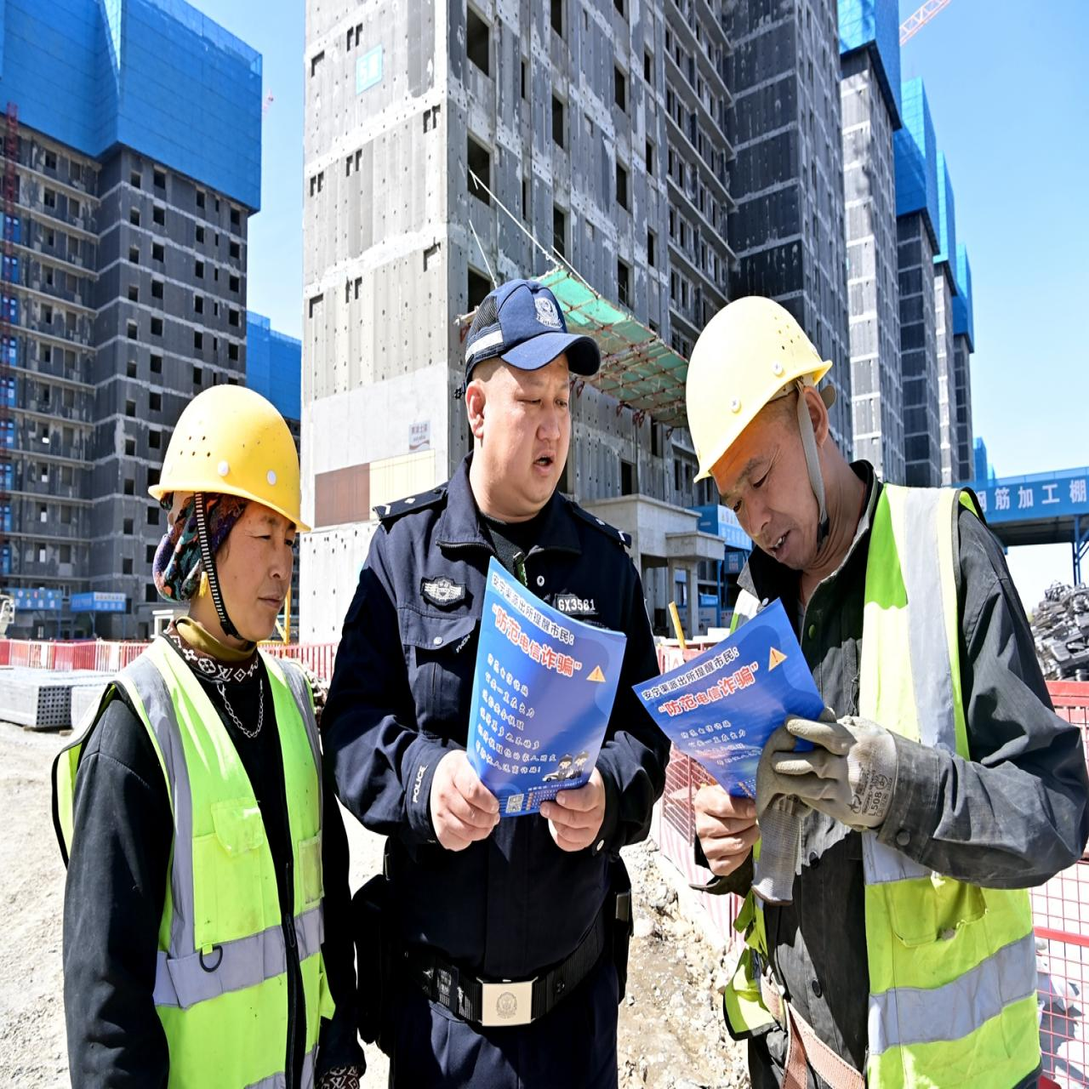NO_Safety_Vest: (382, 496, 611, 1015)
Person: (671, 256, 1089, 1089), (325, 285, 691, 1089), (49, 365, 362, 1089)
Safety_Vest: (726, 509, 1015, 1089), (60, 626, 332, 1089)
